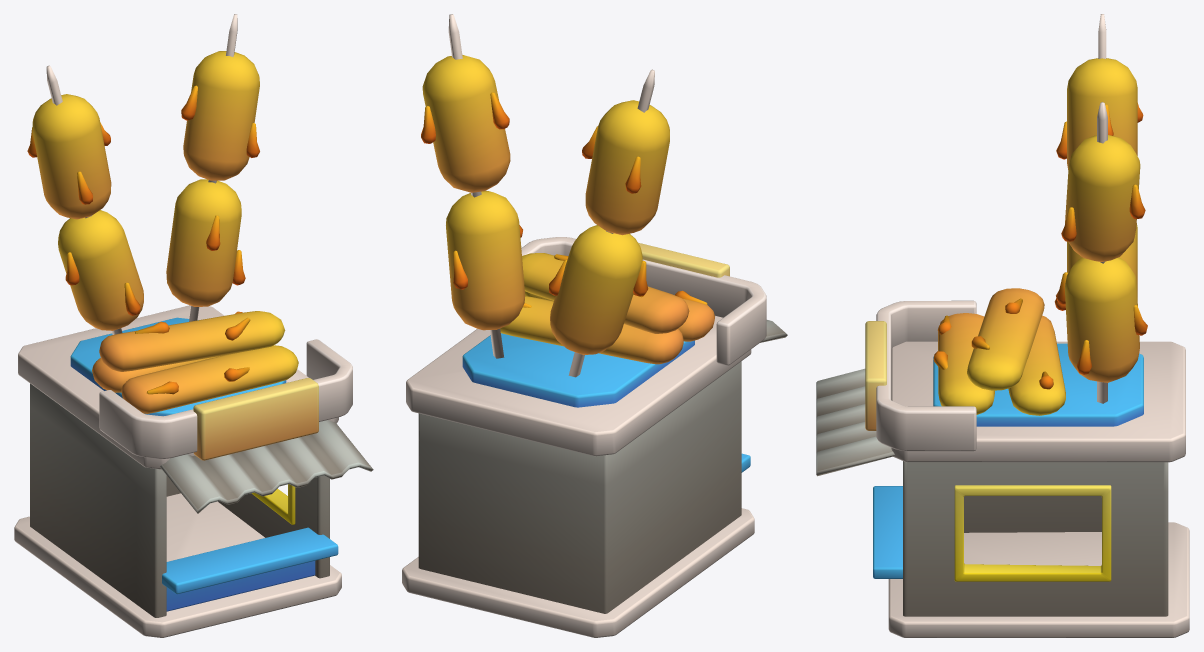
Rendered from lpb_store_bananaque.fbx.
The picture shows the model from 3 angles, left to right: view 1: azimuth 30°, elevation 25°; view 2: azimuth 150°, elevation 25°; view 3: azimuth 270°, elevation 25°; orthographic projection. The views are drawn at different scales.
Visible parts, largest first — view 1: Store.015; view 2: Store.015; view 3: Store.015.
Boxes of the visible parts, x1=… form: Store.015: x1=14, y1=14, x2=373, y2=637; Store.015: x1=402, y1=14, x2=787, y2=637; Store.015: x1=816, y1=14, x2=1189, y2=637.
Bounding box in the file's own units: 356 × 783 × 500.
